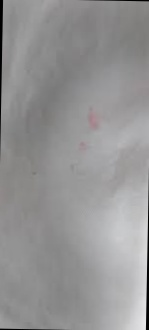lipstick: (84, 105, 102, 132), (75, 140, 89, 153)
